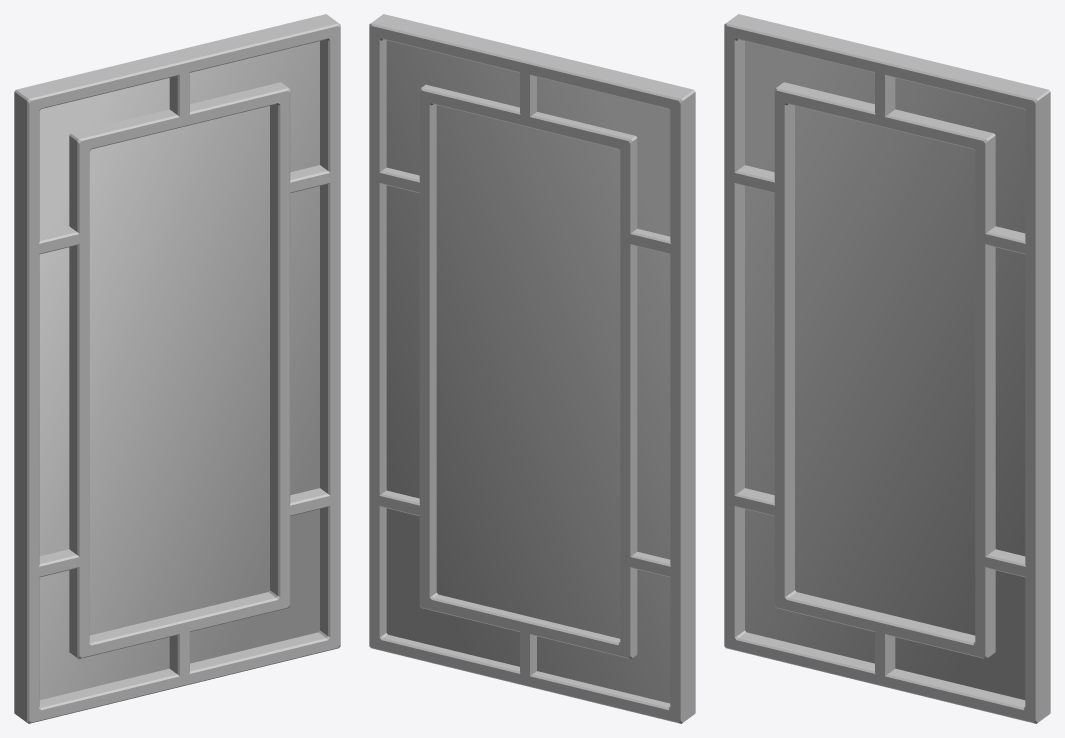
File: Mirror1.fbx
The picture shows the model from 3 angles, left to right: view 1: azimuth 30°, elevation 25°; view 2: azimuth 150°, elevation 25°; view 3: azimuth 330°, elevation 25°; orthographic projection.
Parts seen in each view (by area): view 1: Object001, Rectangle0; view 2: Object001, Rectangle0; view 3: Object001, Rectangle0.
Part boxes in pixels (x1,y1,x2,y2): Object001: (39,41,319,699); Rectangle0: (14,14,340,723); Object001: (386,40,670,703); Rectangle0: (369,14,695,723); Object001: (745,41,1025,699); Rectangle0: (724,14,1050,723).
Bounding box in the file's own units: 13.3 × 25.33 × 1.06.
